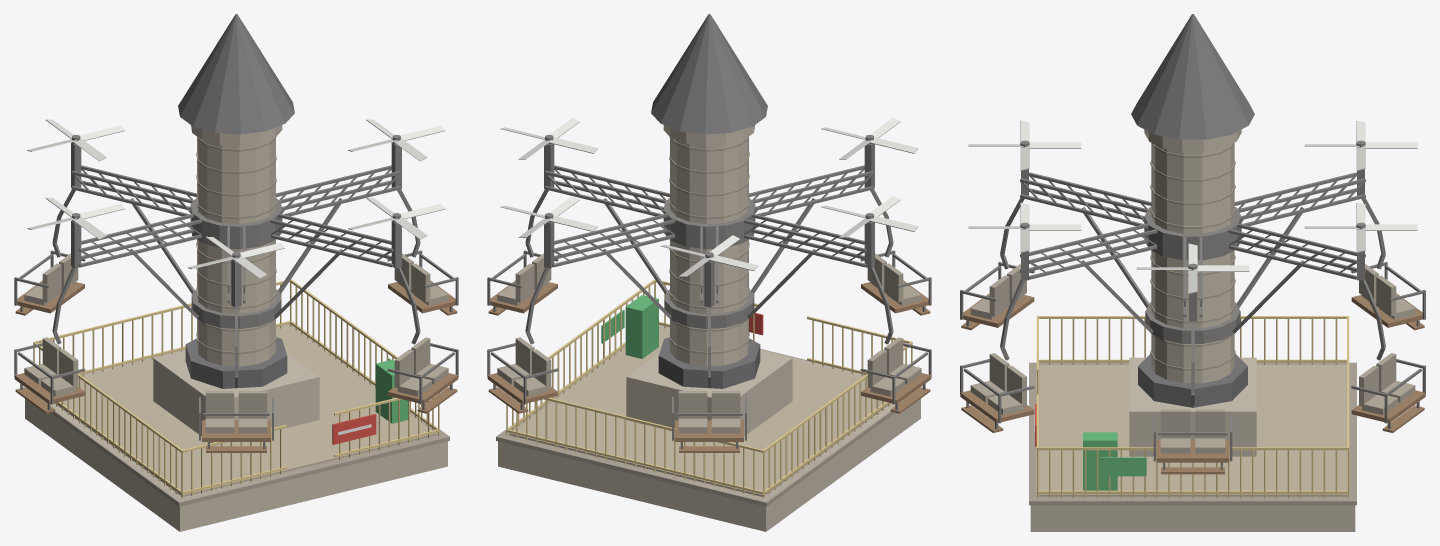
The picture shows the model from 3 angles, left to right: view 1: azimuth 30°, elevation 25°; view 2: azimuth 150°, elevation 25°; view 3: azimuth 270°, elevation 25°; orthographic projection. The views are drawn at different scales.
Parts seen in each view (by area): view 1: base, rotor, lift4, lift3, lift5, lift2, lift0, spin3, spin5, spin2, spin0, spin4; view 2: base, rotor, lift2, lift1, lift3, lift0, lift4, spin0, spin4, spin3, spin1, spin2; view 3: base, rotor, lift0, lift1, lift5, lift4, lift2, spin2, spin0, spin1, spin5, spin4.
Part boxes in pixels (x1,y1,x2,y2): base: [25, 14, 449, 531]; rotor: [71, 142, 401, 328]; lift4: [199, 307, 273, 452]; lift3: [14, 267, 85, 413]; lift5: [387, 267, 458, 413]; lift2: [14, 189, 85, 315]; lift0: [387, 189, 458, 315]; spin3: [27, 197, 124, 239]; spin5: [348, 197, 445, 239]; spin2: [27, 119, 124, 161]; spin0: [348, 119, 445, 161]; spin4: [187, 236, 284, 278]; base: [496, 14, 920, 531]; rotor: [544, 143, 874, 328]; lift2: [672, 307, 746, 452]; lift1: [487, 267, 558, 413]; lift3: [860, 267, 931, 413]; lift0: [487, 189, 558, 315]; lift4: [860, 189, 931, 315]; spin0: [500, 117, 597, 159]; spin4: [821, 118, 918, 159]; spin3: [821, 196, 918, 237]; spin1: [500, 196, 597, 237]; spin2: [660, 235, 758, 276]; base: [1029, 14, 1356, 531]; rotor: [1020, 169, 1365, 343]; lift0: [1153, 321, 1232, 474]; lift1: [1351, 279, 1425, 432]; lift5: [960, 279, 1034, 432]; lift4: [960, 198, 1034, 330]; lift2: [1351, 198, 1425, 330]; spin2: [1304, 120, 1417, 170]; spin0: [1136, 243, 1249, 293]; spin1: [1304, 202, 1417, 252]; spin5: [968, 202, 1081, 252]; spin4: [968, 120, 1081, 170].
Bounding box in the file's own units: 8.65 × 8.55 × 8.04.
